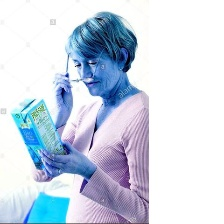carton: (9, 94, 71, 174)
